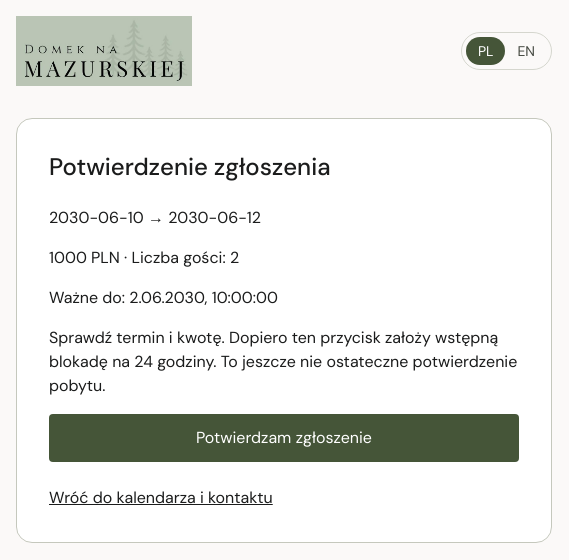
Scenario: does not act when opened; explicit confirmation creates the pending hold
Expected: the text "1000 PLN · Liczba gości: 2" is shown, [49,247,239,268]
Click the button "Potwierdzam zgłoszenie": (284, 438) [49,414,519,462]
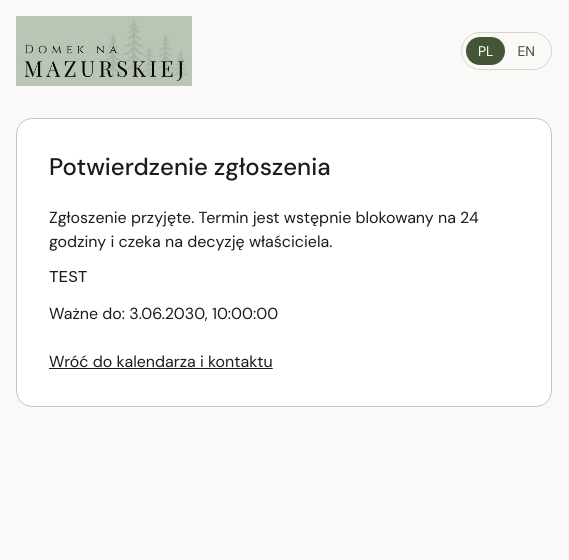
Expected: the text "24 godziny" is shown, [49,207,479,252]
